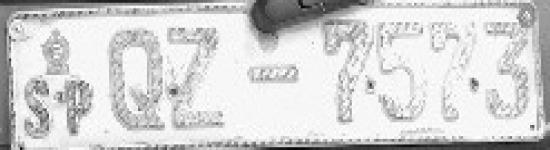-: (243, 62, 308, 92)
3: (481, 12, 531, 130)
5: (374, 11, 430, 127)
7: (314, 12, 375, 126), (427, 10, 481, 131)
P: (56, 74, 99, 144)
Q: (101, 20, 168, 138)
S: (16, 72, 59, 142)
Z: (165, 18, 231, 137)
